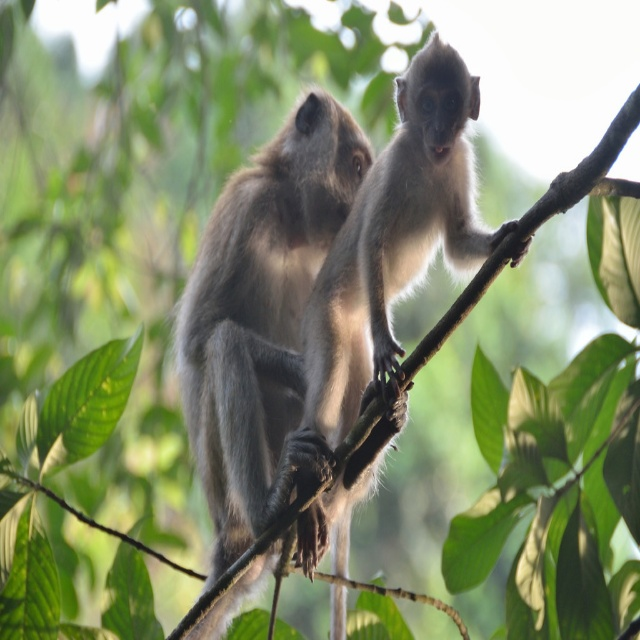Monkey: (150, 48, 418, 640), (300, 22, 541, 639)
